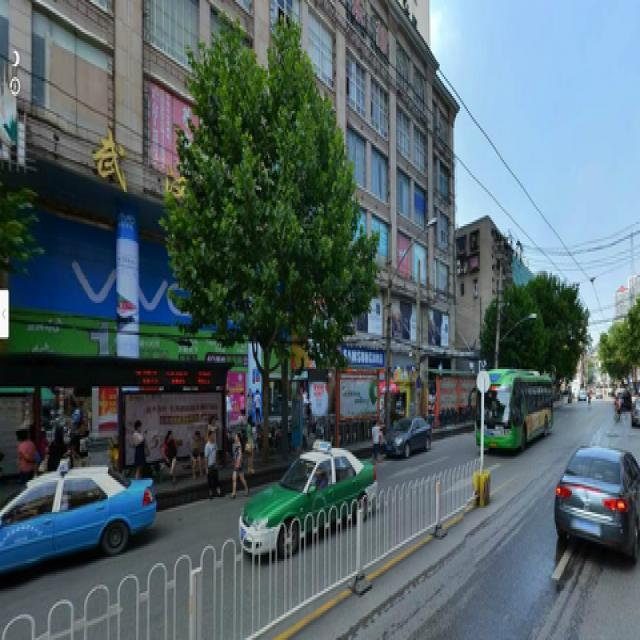meta: (193, 26, 347, 437)
